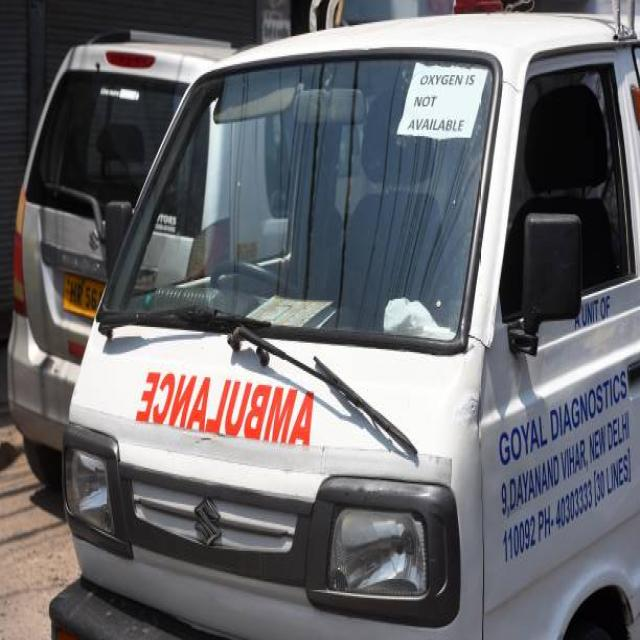ambulance: (126, 372, 316, 459)
